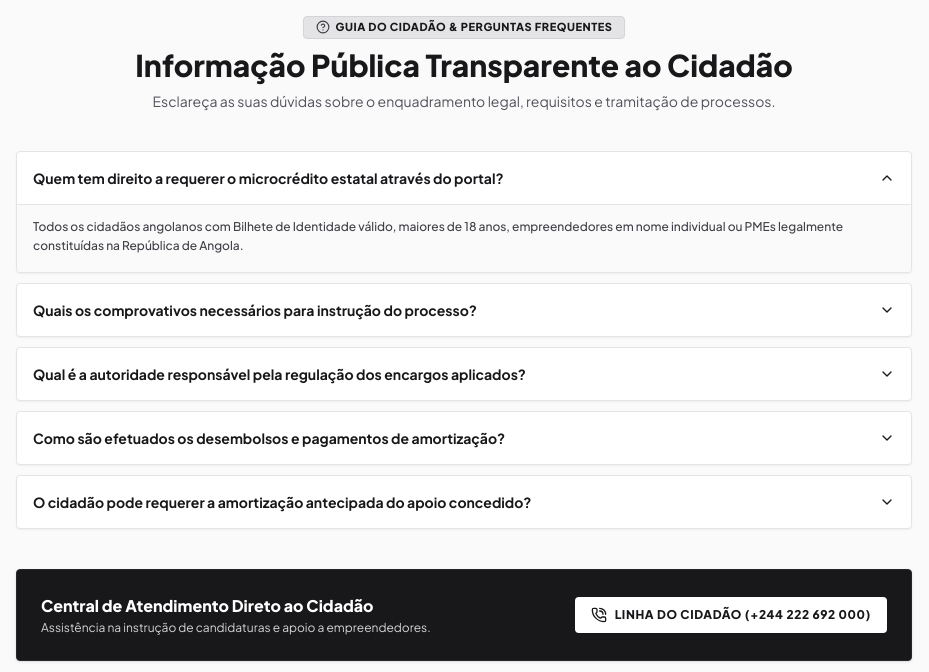
Test: FaqSection Component › toggles FAQ accordion questions and answers
Expected: the text with test id "faq-answer-0" is shown, [17,204,911,272]
# Click second question
Click the button with test id "faq-button-1" at point(464, 310), box [17,284,911,336]
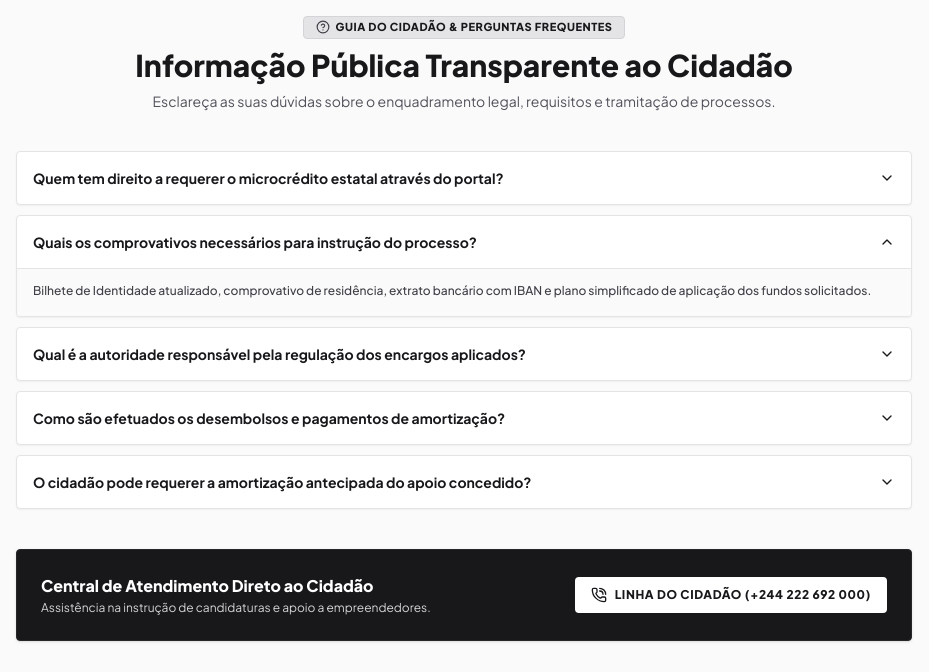
Expected: the text with test id "faq-answer-1" is shown, [17,268,911,316]
